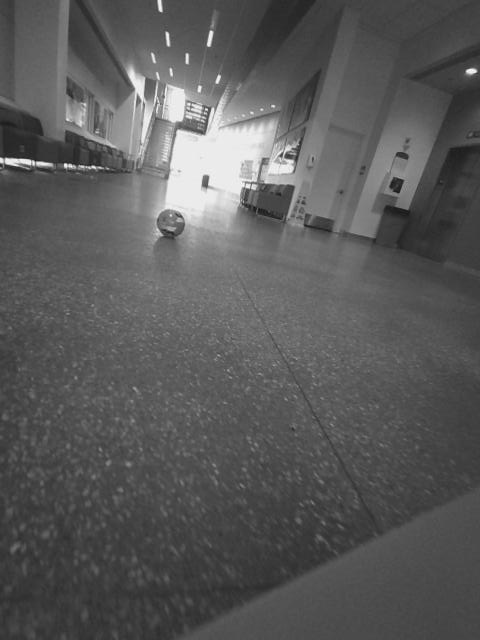ball: (153, 205, 189, 240)
